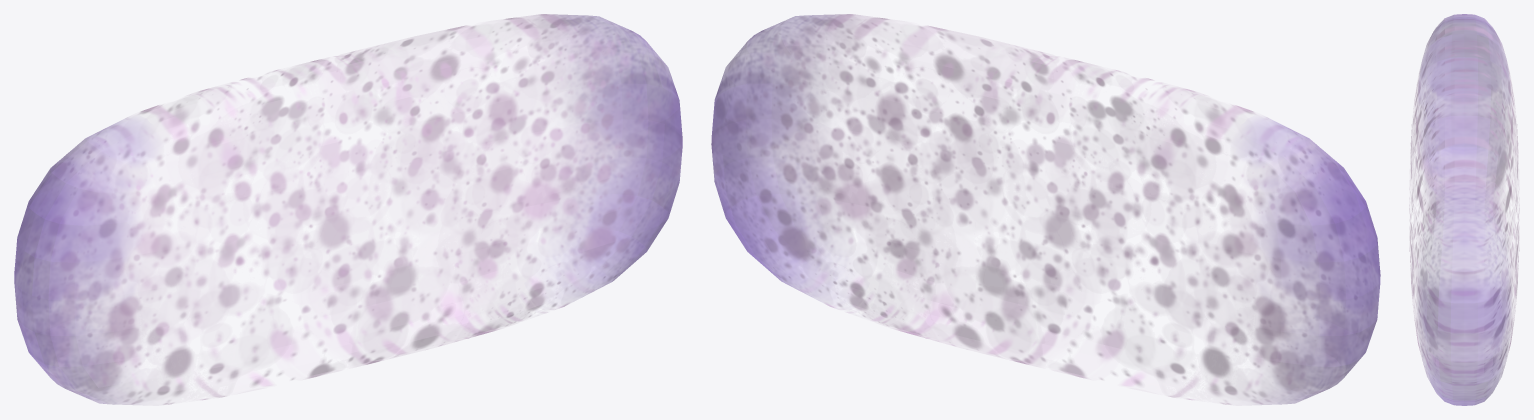
The model's file is caixinha.fbx.
3 views of the same model, side by side, from view 1: azimuth 30°, elevation 25°; view 2: azimuth 150°, elevation 25°; view 3: azimuth 270°, elevation 25° (orthographic). The views are drawn at different scales.
Parts seen in each view (by area): view 1: Cube; view 2: Cube; view 3: Cube.
Part boxes in pixels (left/top/right/bottom): Cube: left=14, top=14, right=682, bottom=404; Cube: left=711, top=14, right=1380, bottom=404; Cube: left=1409, top=14, right=1519, bottom=405.
Bounding box in the file's own units: 476 × 209 × 89.11.
